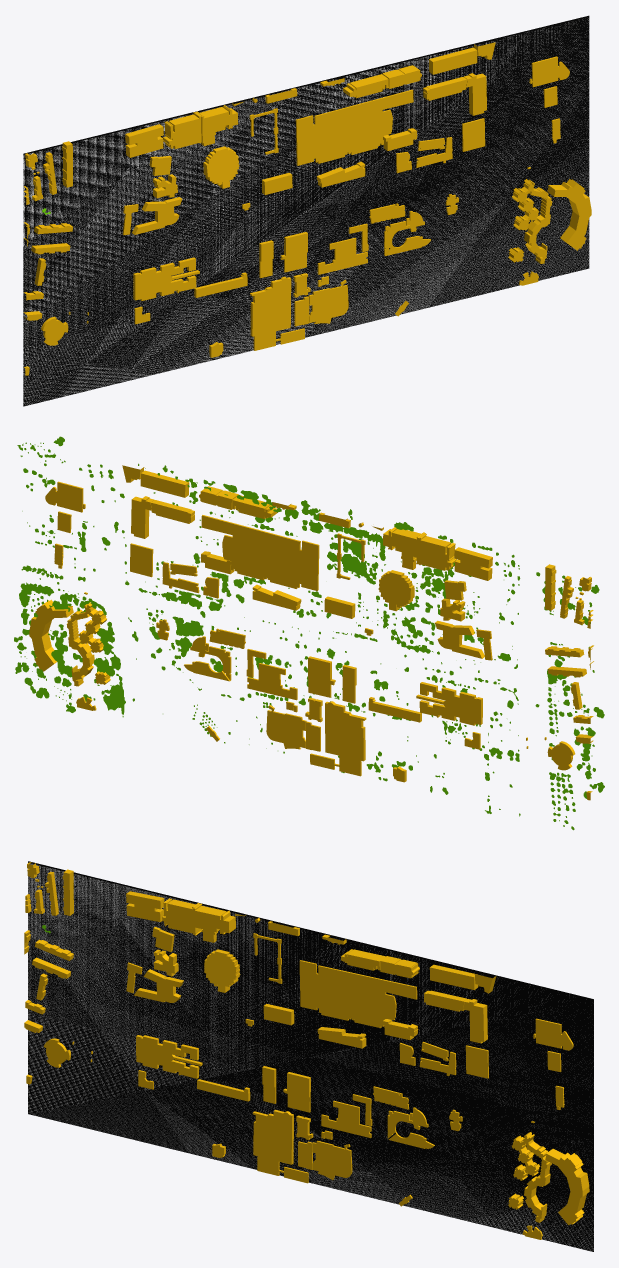
File: existing_trees_10.glb
The picture shows the model from 3 angles, top to bottom: view 1: azimuth 30°, elevation 25°; view 2: azimuth 150°, elevation 25°; view 3: azimuth 330°, elevation 25°; orthographic projection.
Parts seen in each view (by area): view 1: Layer 04, base, existing_building - Copy; view 2: existing_building - Copy, treesurface; view 3: Layer 04, existing_building - Copy, base.
Part boxes in pixels (bbox=[...]): Layer 04: bbox=[23, 15, 589, 406]; base: bbox=[23, 18, 589, 404]; existing_building - Copy: bbox=[23, 42, 591, 375]; existing_building - Copy: bbox=[29, 465, 593, 800]; treesurface: bbox=[14, 436, 604, 830]; Layer 04: bbox=[28, 861, 593, 1251]; existing_building - Copy: bbox=[24, 862, 589, 1239]; base: bbox=[28, 863, 593, 1251].
Bounding box in the file's own units: 1035 × 458 × 20.85.
